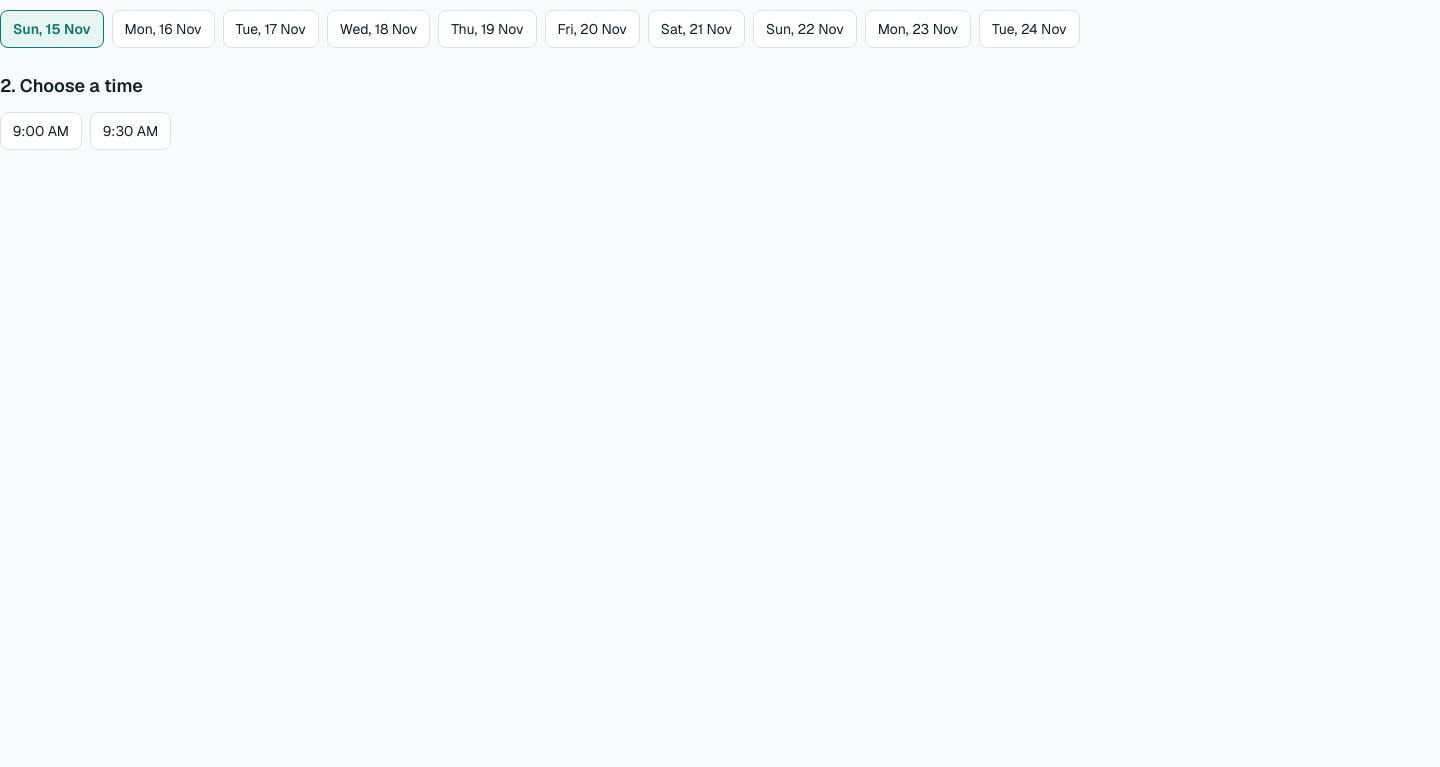
BookingFlow › maps server field errors back onto the form
This screenshot has width=1440, height=767.
Click the button "9:00 AM" at (41, 131), box [0,112,82,150]
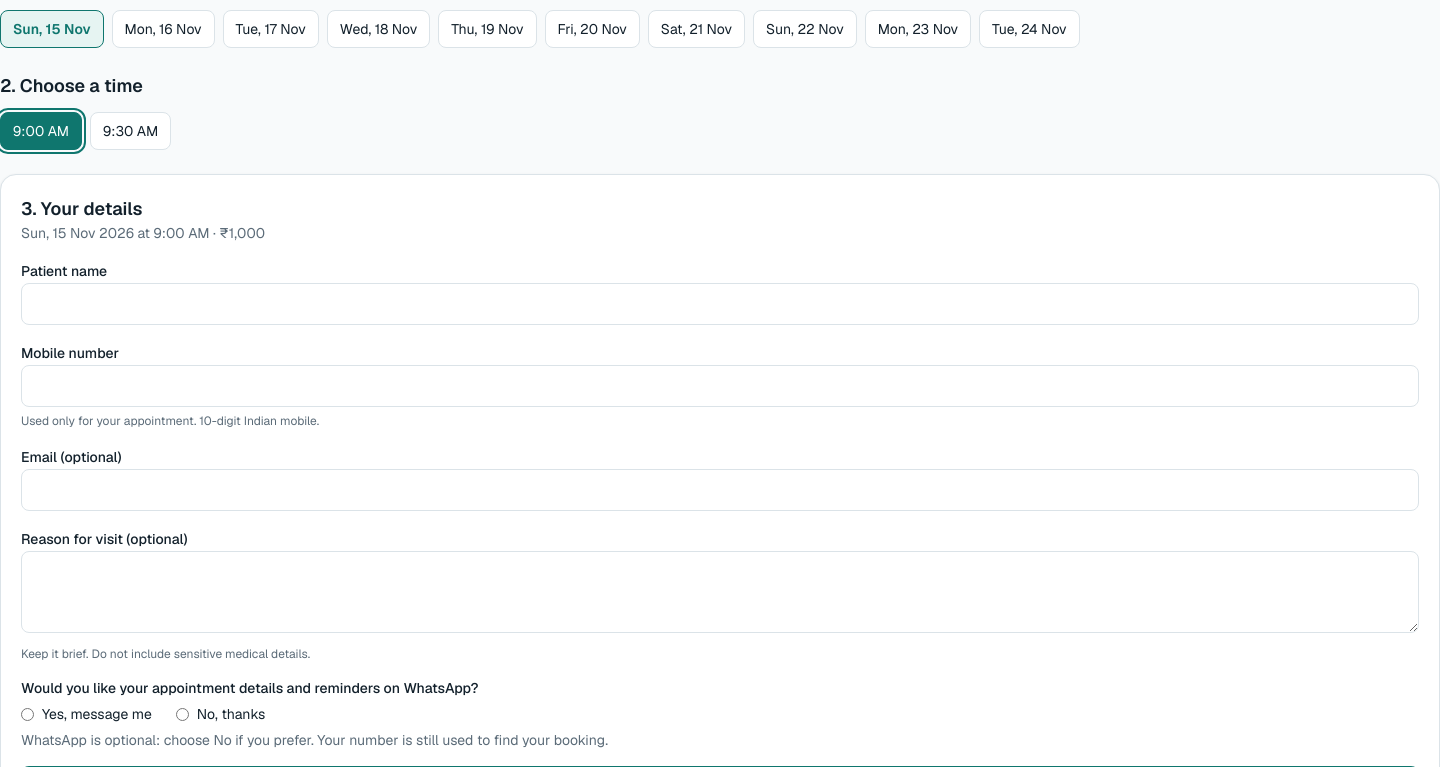
Type "Asha Rao" into the field labelled "Patient name" at (720, 304), box [21,283,1419,325]
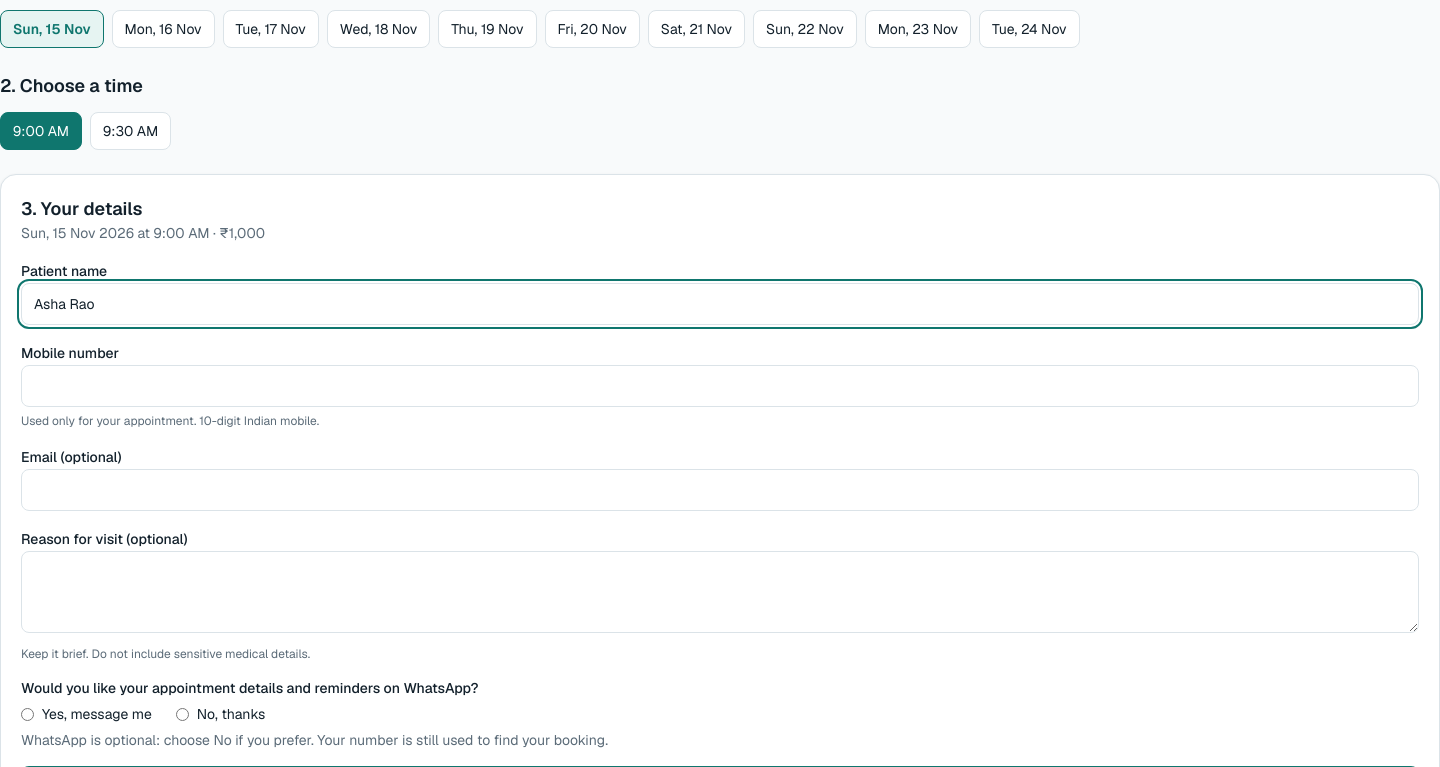
Type "9876543210" into the field labelled "Mobile number" at (720, 386), box [21,365,1419,407]
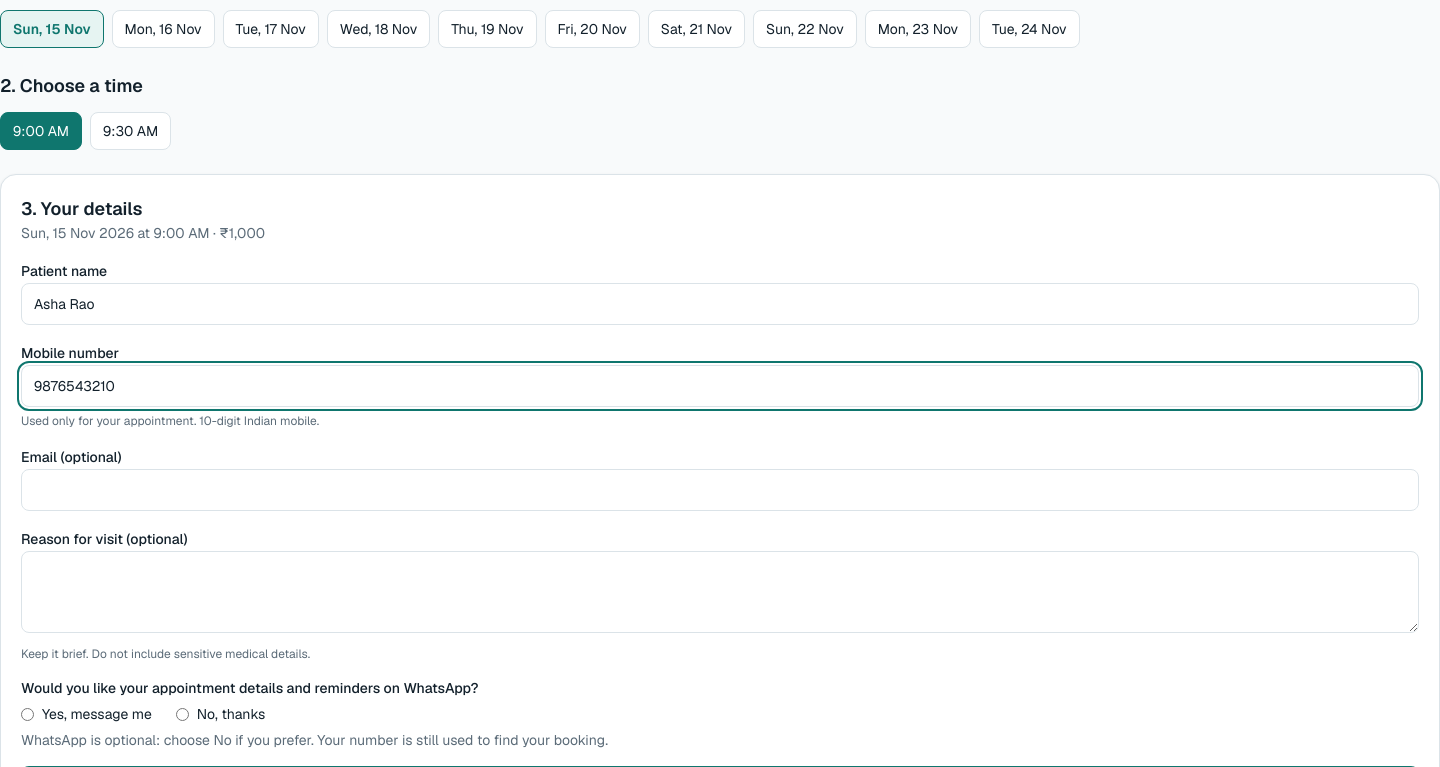
Click the radio button labelled "No, thanks" at (182, 714), box [176,708,189,720]
(page scrolled)
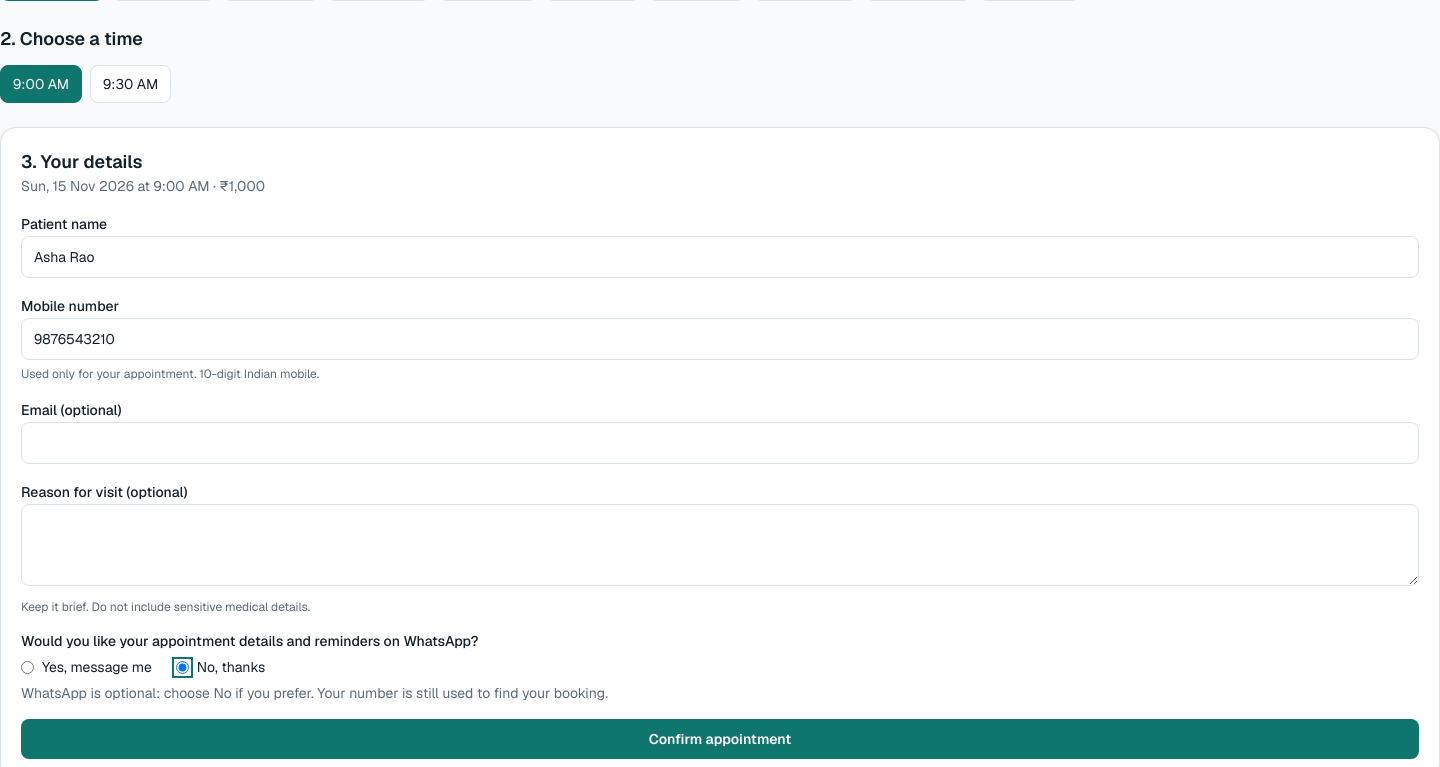
Click the button "Confirm appointment" at (720, 739), box [21,719,1419,759]
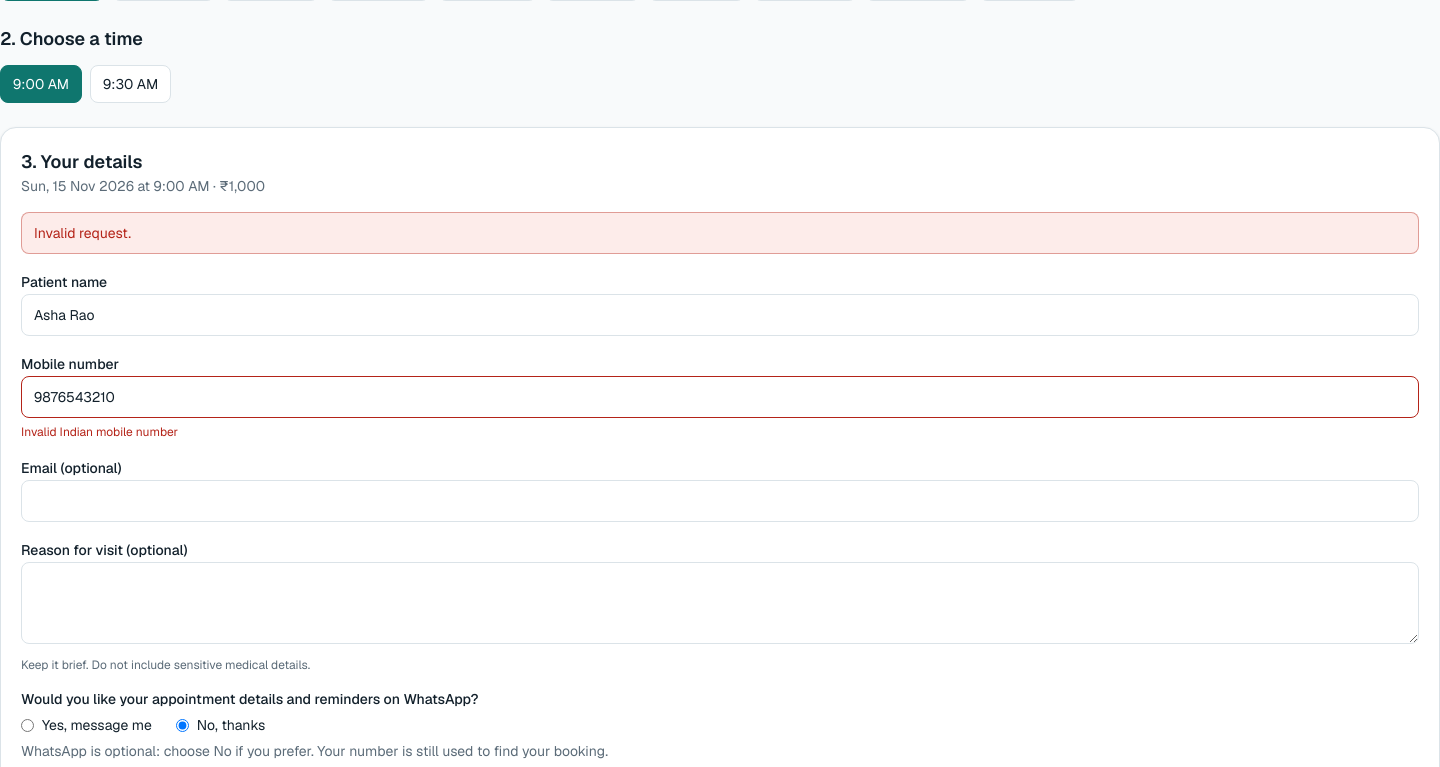
Result: the text "Invalid Indian mobile number" is shown at [21,424,178,440]
